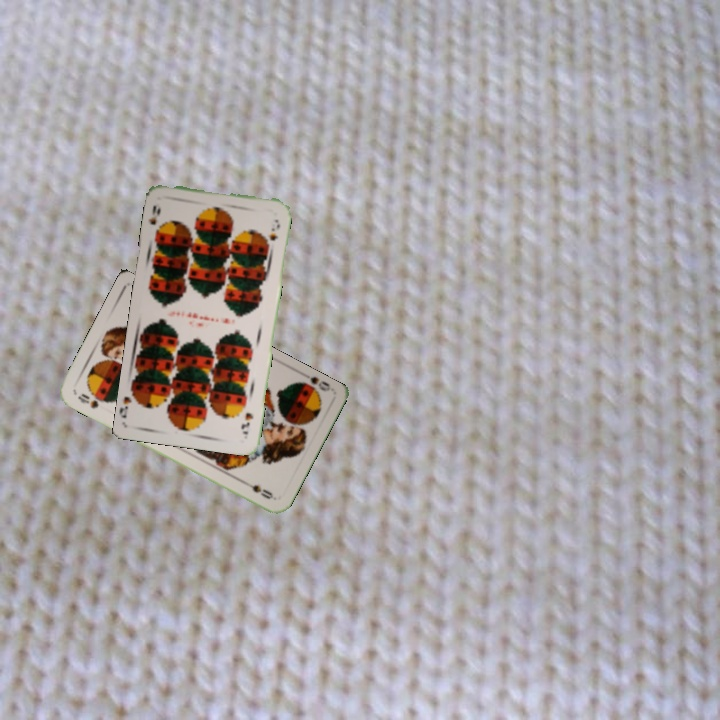S9: (145, 201, 164, 237), (238, 408, 255, 437)
SO: (292, 377, 333, 398), (74, 389, 106, 411)
